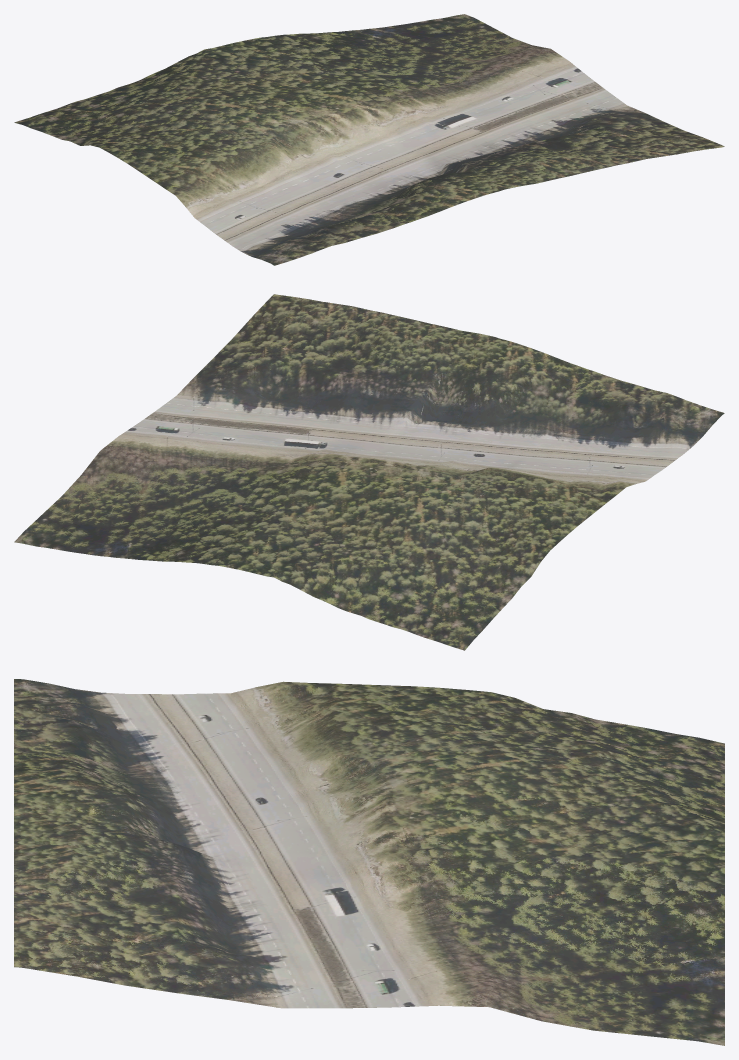
Rendered from CM_Terrain_24490663_6817746.fbx.
3 renders of one model, top to bottom at view 1: azimuth 30°, elevation 25°; view 2: azimuth 150°, elevation 25°; view 3: azimuth 270°, elevation 25°, orthographic. The views are drawn at different scales.
Parts seen in each view (by area): view 1: CM_Terrain_24490663_6817746_LOD0; view 2: CM_Terrain_24490663_6817746_LOD0; view 3: CM_Terrain_24490663_6817746_LOD0.
Boxes of the visible parts, left/top/right/bottom form: CM_Terrain_24490663_6817746_LOD0: left=14, top=14, right=724, bottom=265; CM_Terrain_24490663_6817746_LOD0: left=14, top=294, right=724, bottom=650; CM_Terrain_24490663_6817746_LOD0: left=14, top=679, right=724, bottom=1045.
Size of what is drawn, in the model's own units: 205 by 29.84 by 205.
